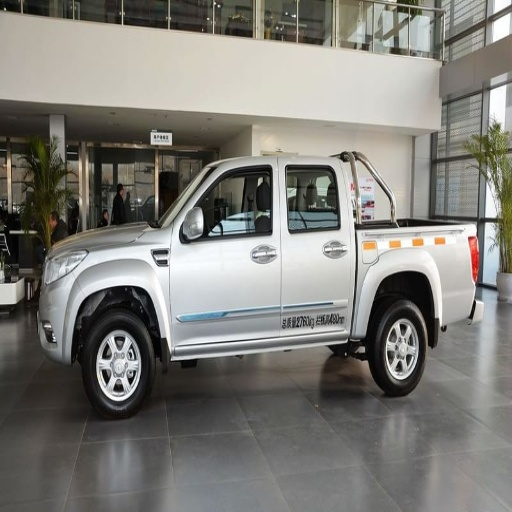back_left_door: (282, 164, 352, 327)
front_left_door: (170, 165, 283, 344)
trunk: (349, 226, 480, 335)
